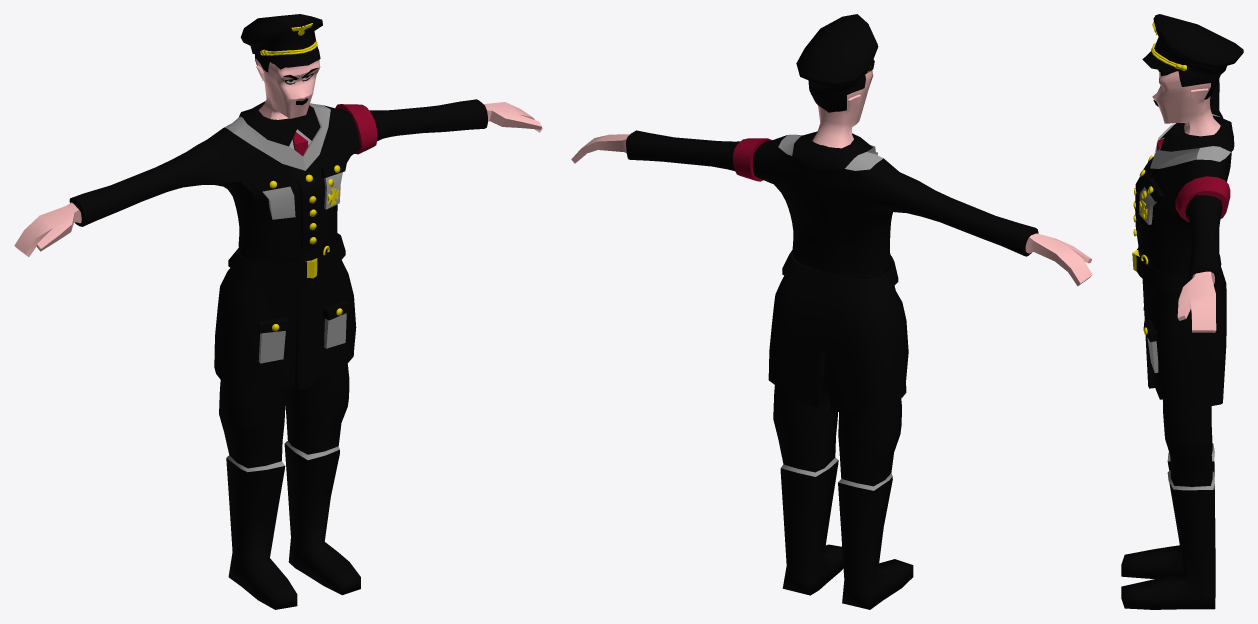
File: hittles.fbx
3 views of the same model, side by side, from view 1: azimuth 30°, elevation 25°; view 2: azimuth 150°, elevation 25°; view 3: azimuth 270°, elevation 25° (orthographic).
Parts seen in each view (by area): view 1: man.001; view 2: man.001; view 3: man.001.
Boxes of the visible parts, bbox=[...] form: man.001: bbox=[14, 14, 542, 609]; man.001: bbox=[571, 14, 1092, 609]; man.001: bbox=[1121, 14, 1243, 609].
Size of the model in its own units: 168 by 178 by 34.49.
